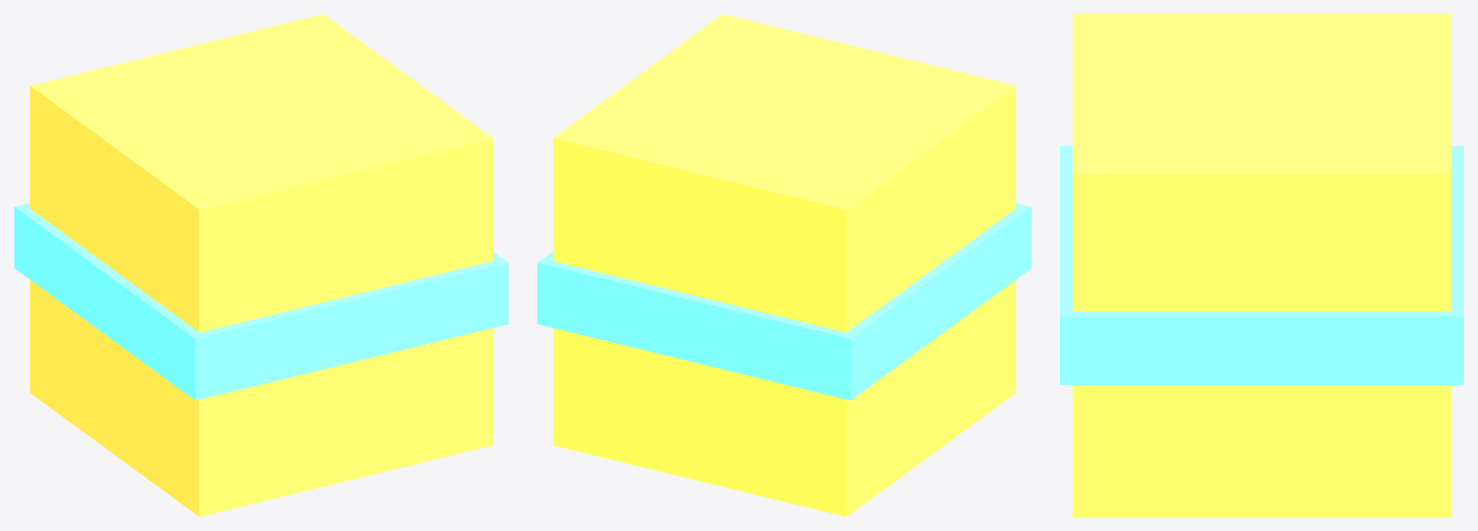
Rendered from lootbox.glb.
The picture shows the model from 3 angles, left to right: view 1: azimuth 30°, elevation 25°; view 2: azimuth 150°, elevation 25°; view 3: azimuth 270°, elevation 25°; orthographic projection. The views are drawn at different scales.
Parts seen in each view (by area): view 1: LootBox; view 2: LootBox; view 3: LootBox.
Part boxes in pixels (bbox=[...]): LootBox: bbox=[14, 14, 508, 516]; LootBox: bbox=[537, 14, 1031, 516]; LootBox: bbox=[1060, 14, 1463, 516].
Size of the model in its own units: 2.24 by 2.1 by 2.24.
